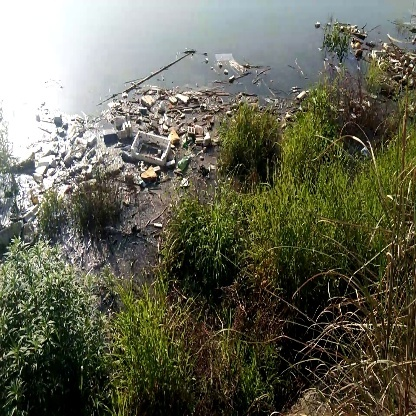plastic-garbage: (123, 126, 173, 170)
